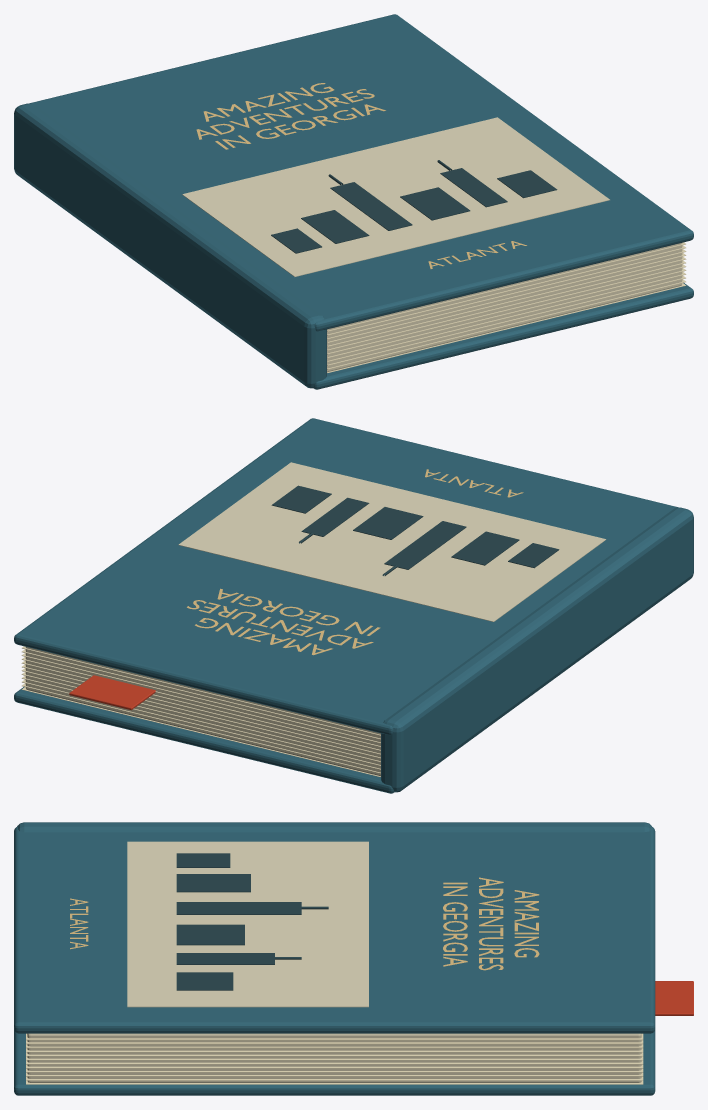
File: georgia.glb
3 views of the same model, one above another, from view 1: azimuth 30°, elevation 25°; view 2: azimuth 150°, elevation 25°; view 3: azimuth 270°, elevation 25° (orthographic). The views are drawn at different scales.
Visible parts, largest first — view 1: Lower board; view 2: Lower board; view 3: Lower board.
Part boxes in pixels (left/top/right/bottom): Lower board: left=14, top=14, right=693, bottom=389; Lower board: left=14, top=418, right=693, bottom=793; Lower board: left=14, top=822, right=693, bottom=1095.
Bounding box in the file's own units: 0.1605 × 0.0282 × 0.228.
